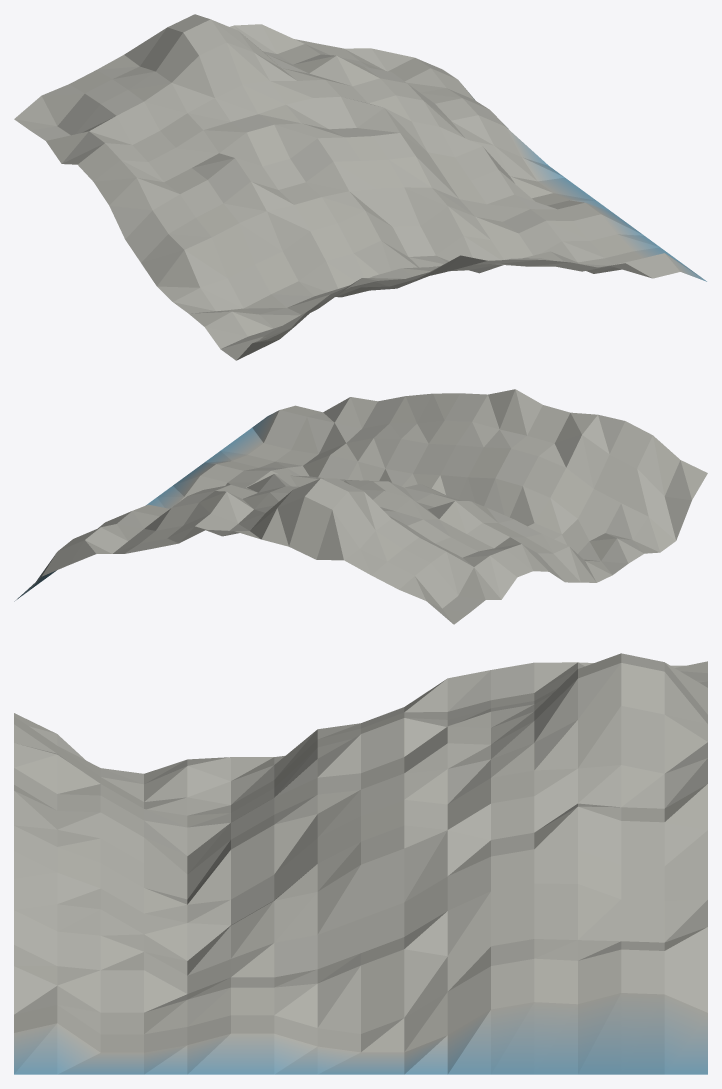
The picture shows the model from 3 angles, top to bottom: view 1: azimuth 30°, elevation 25°; view 2: azimuth 150°, elevation 25°; view 3: azimuth 270°, elevation 25°; orthographic projection. The views are drawn at different scales.
Bounding box in the file's own units: 32 × 11.63 × 32.
